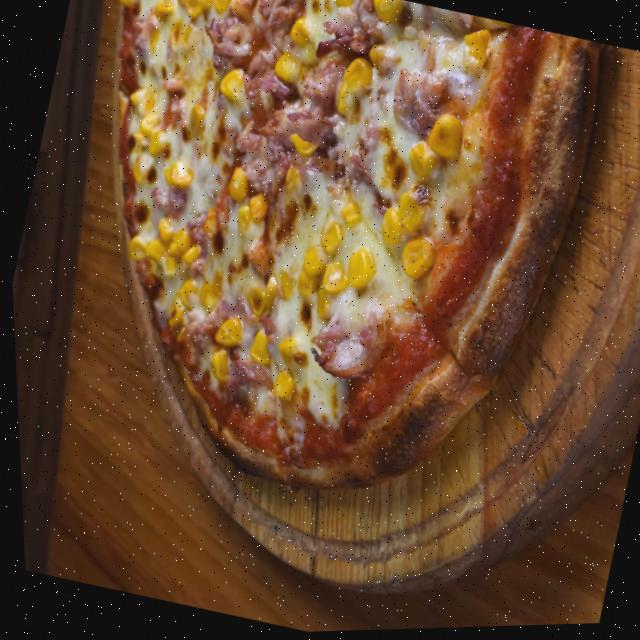pizza: (11, 0, 623, 547)
